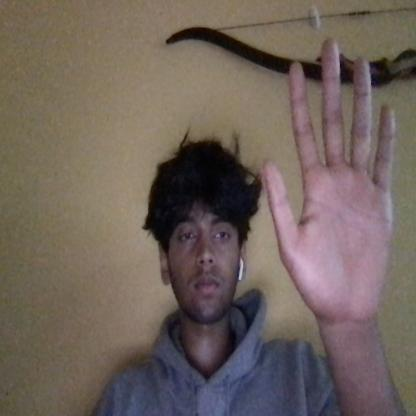palm: (251, 31, 416, 335)
